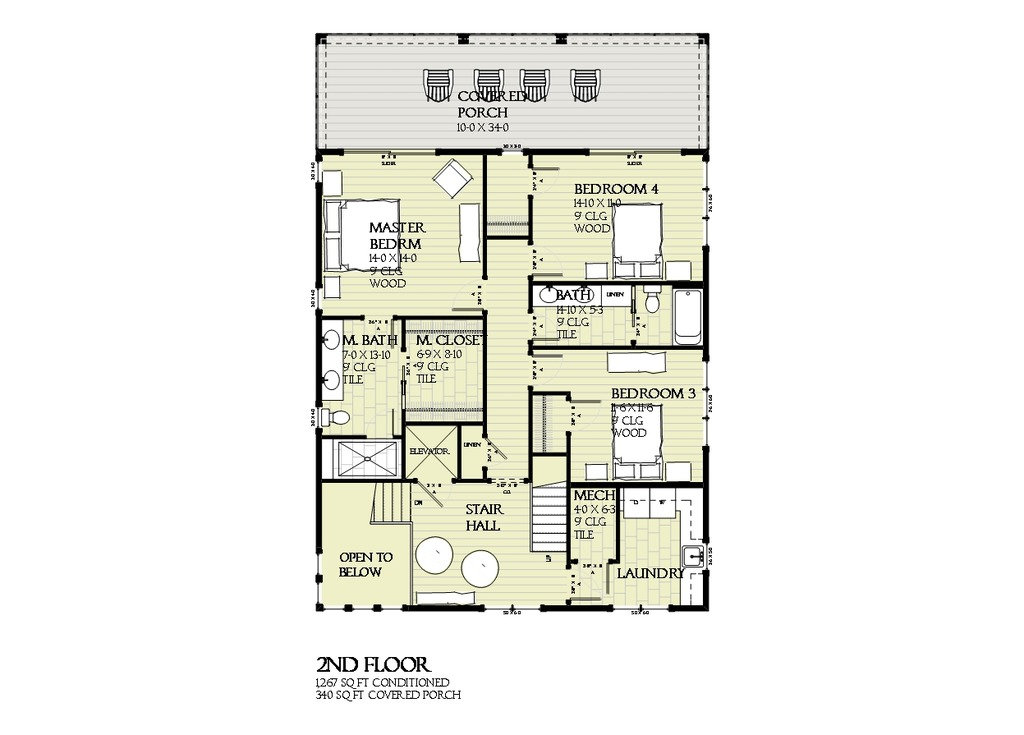bed: (316, 196, 400, 269), (611, 201, 664, 281), (611, 404, 666, 480)
large_sink: (322, 404, 352, 431), (642, 287, 664, 317)
small_sink: (322, 320, 347, 404)
small_sofa: (432, 158, 481, 195)
stairs: (530, 456, 571, 551), (361, 483, 418, 525)
tub: (672, 287, 705, 344)
windows: (340, 145, 436, 156), (607, 604, 671, 614)
